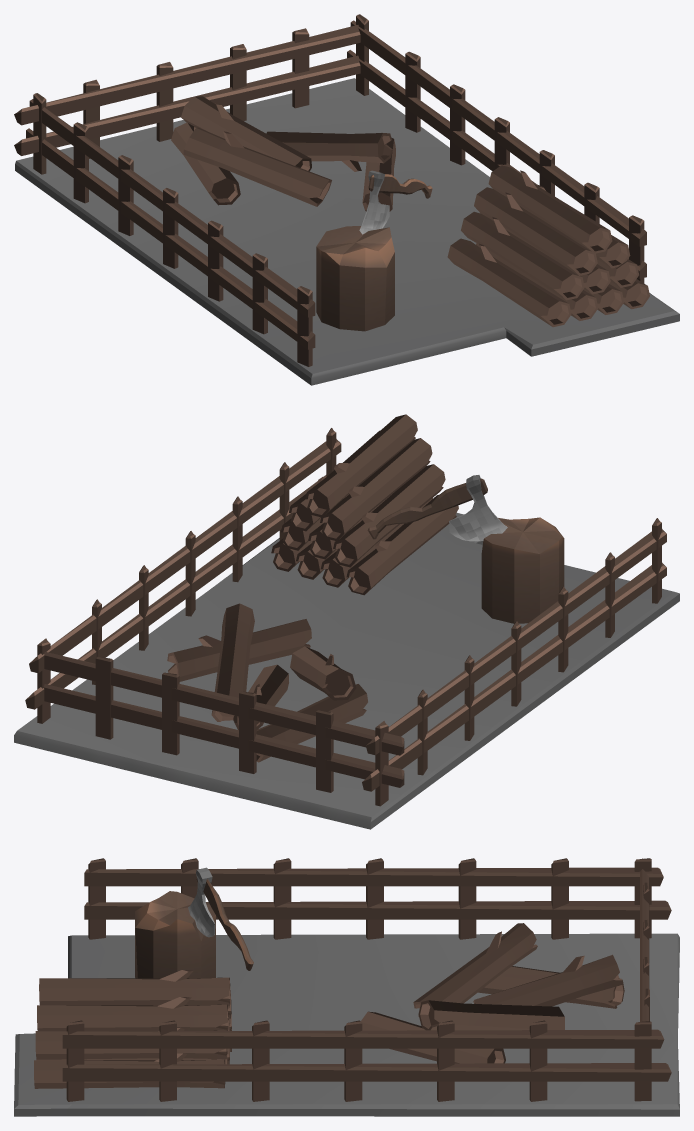
File: sawmill_0lvl.fbx
3 renders of one model, top to bottom at view 1: azimuth 30°, elevation 25°; view 2: azimuth 150°, elevation 25°; view 3: azimuth 270°, elevation 25°, orthographic. The views are drawn at different scales.
Visible parts, largest first — view 1: sawmill_0lvl; view 2: sawmill_0lvl; view 3: sawmill_0lvl.
Part boxes in pixels (box(x1,y1,x2,y2)): sawmill_0lvl: box(14, 14, 679, 385); sawmill_0lvl: box(14, 414, 679, 829); sawmill_0lvl: box(14, 858, 679, 1116).
Bounding box in the file's own units: 4.17 × 1.52 × 6.47.
